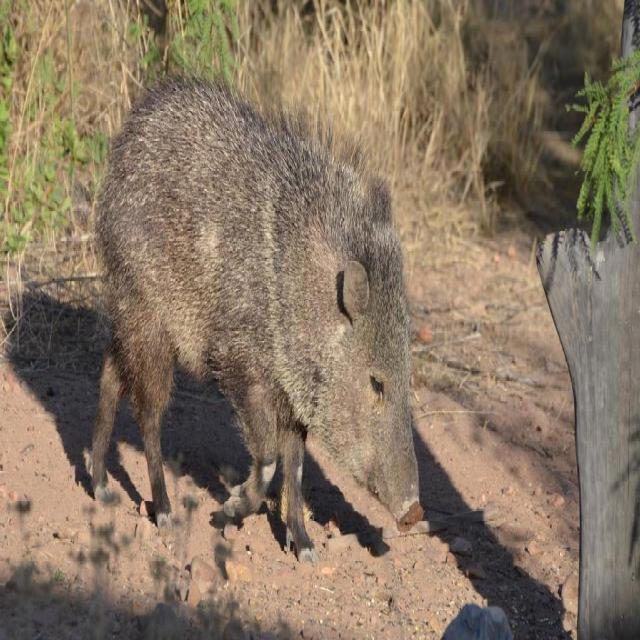Pig: (86, 63, 424, 566)
